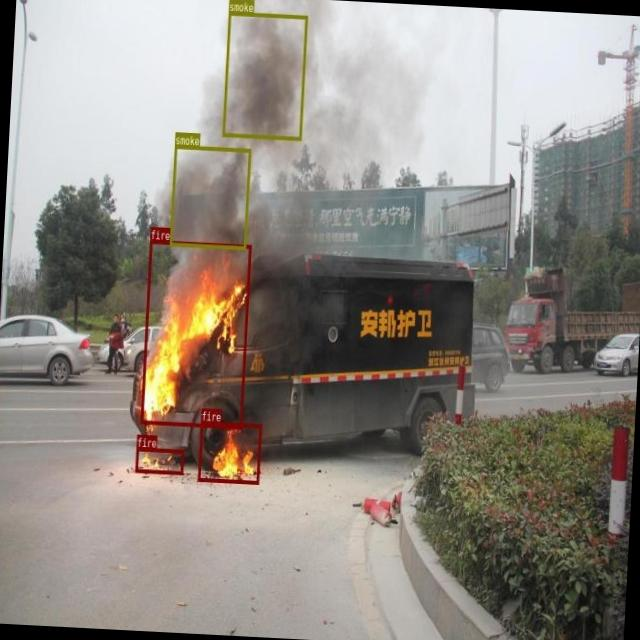fire: (140, 240, 250, 428), (198, 421, 262, 484), (135, 447, 184, 474)
smoke: (222, 11, 308, 140), (170, 145, 251, 249)
